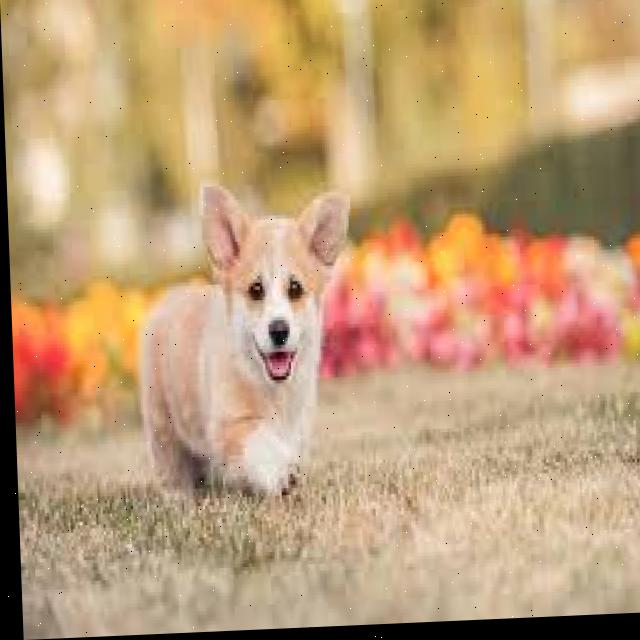CORGI: (110, 156, 364, 518)
